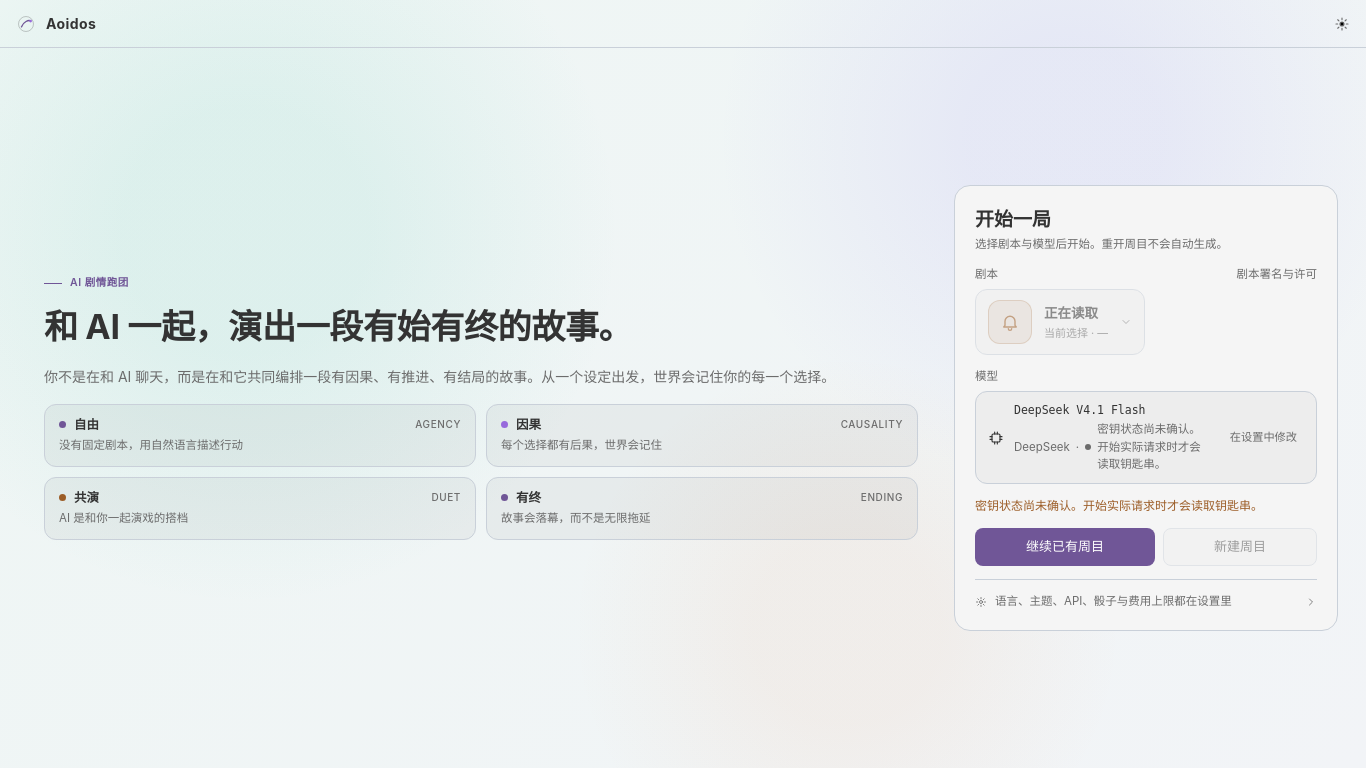
Scenario: App › mounts the latest saved locale immediately after startup hydration
This screenshot has width=1366, height=768.
Expected: the button with class "welcome-start" is enabled, [975,528,1155,566]
Expected: the button with class "welcome-new-cycle" is disabled, [1163,528,1317,566]
Click the button named "设置". click: x=1342, y=24
box: [1326,8,1358,40]
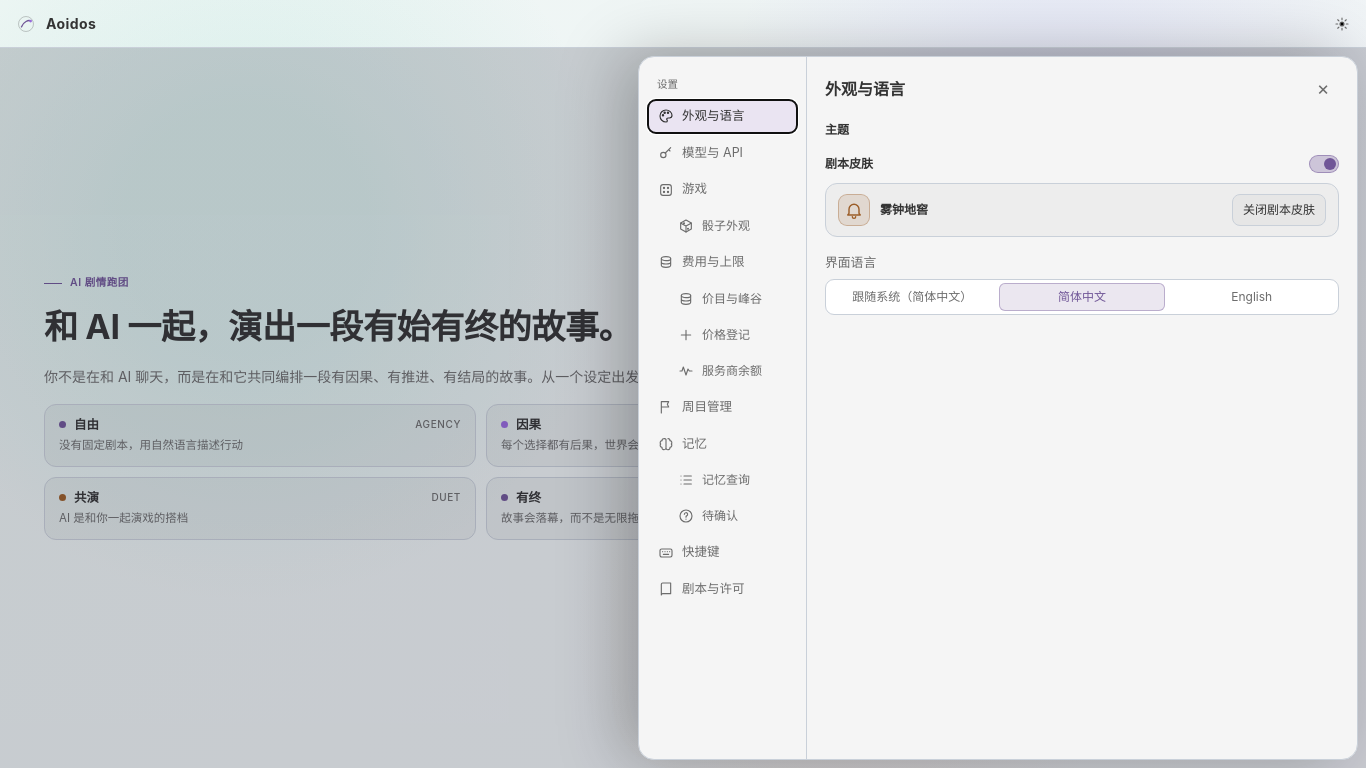
Click the button "模型与 API". click: x=722, y=153
box: [647,136,798,170]
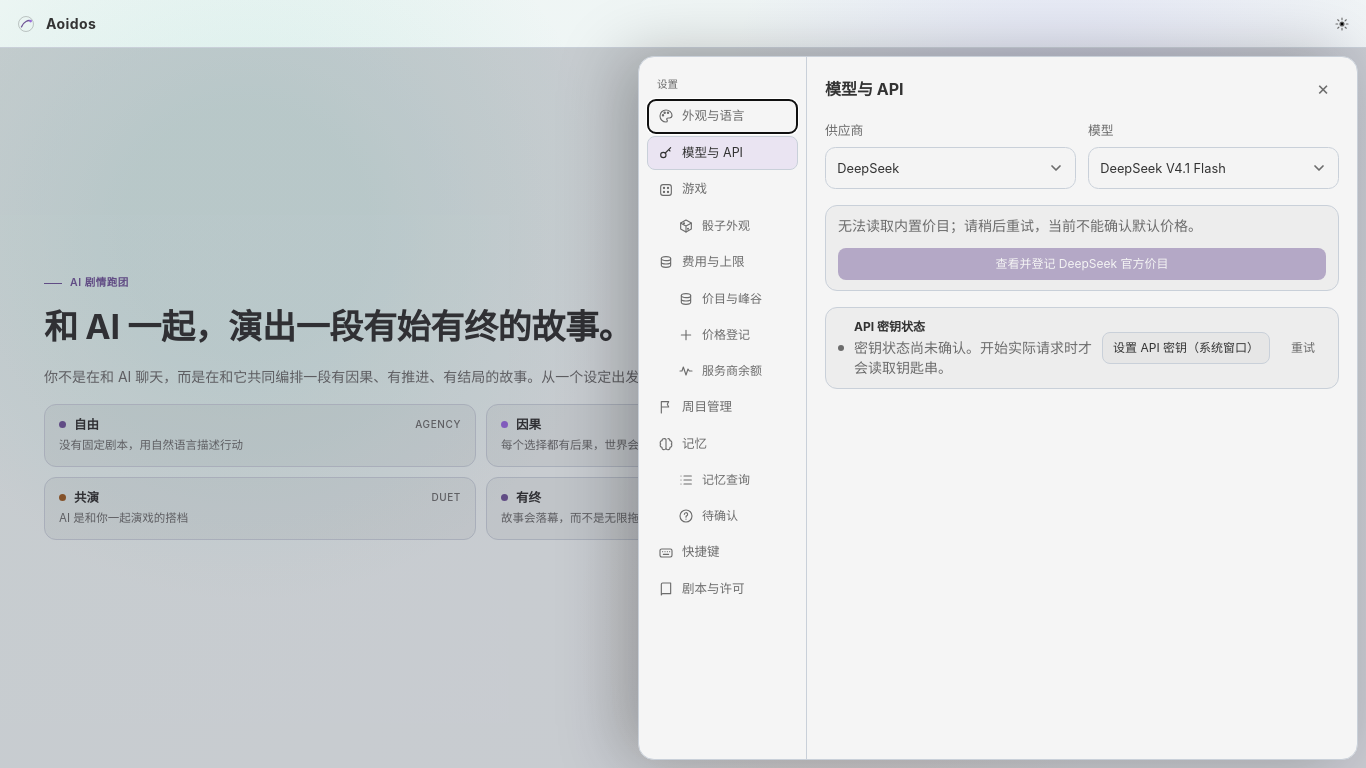
Expected: the element with class "settings-key-card" shows "密钥状态尚未确认", [854,339,1092,376]
Click the button with class "ghost" showing "重试". click: x=1303, y=348
box: [1280,332,1326,364]
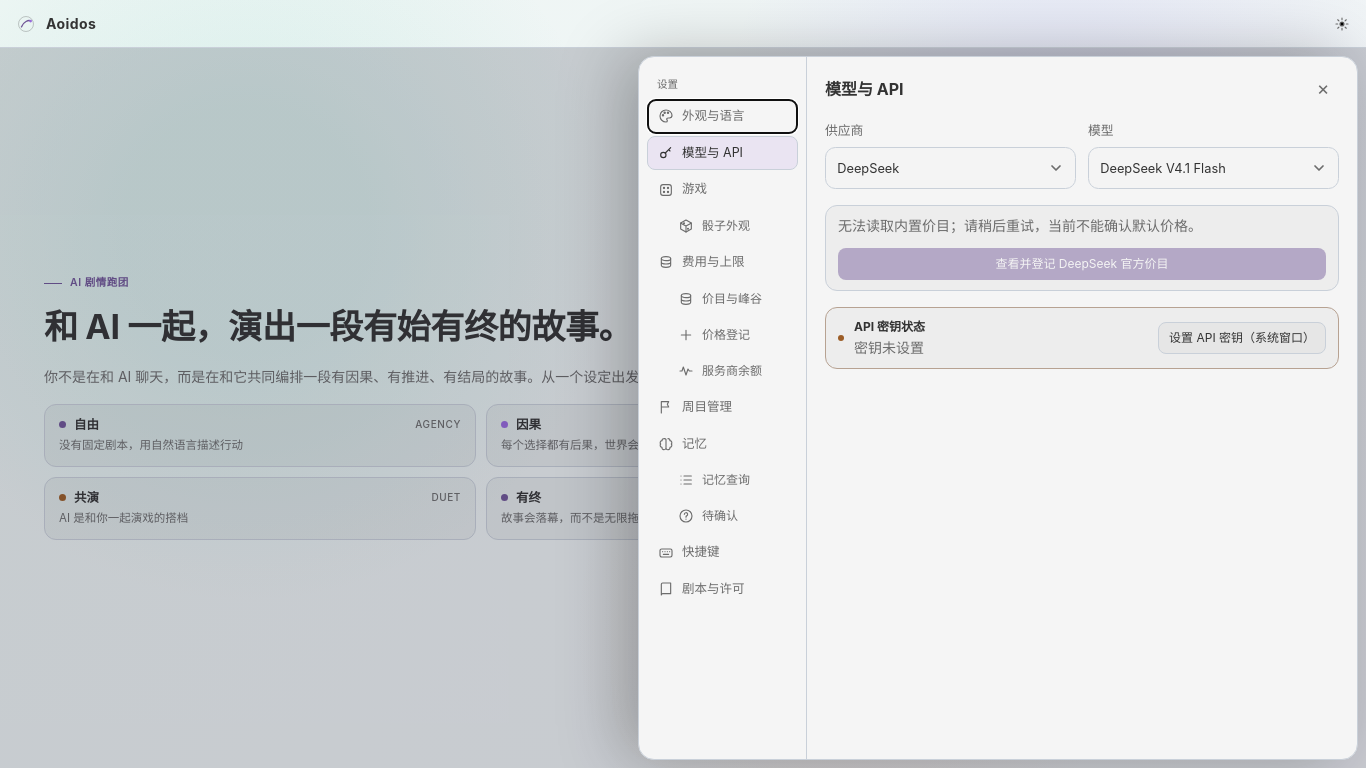
Expected: the element with class "settings-key-card" shows "密钥未设置", [854,339,924,356]
Click the button "游戏". click: x=722, y=190
box: [647,172,798,207]
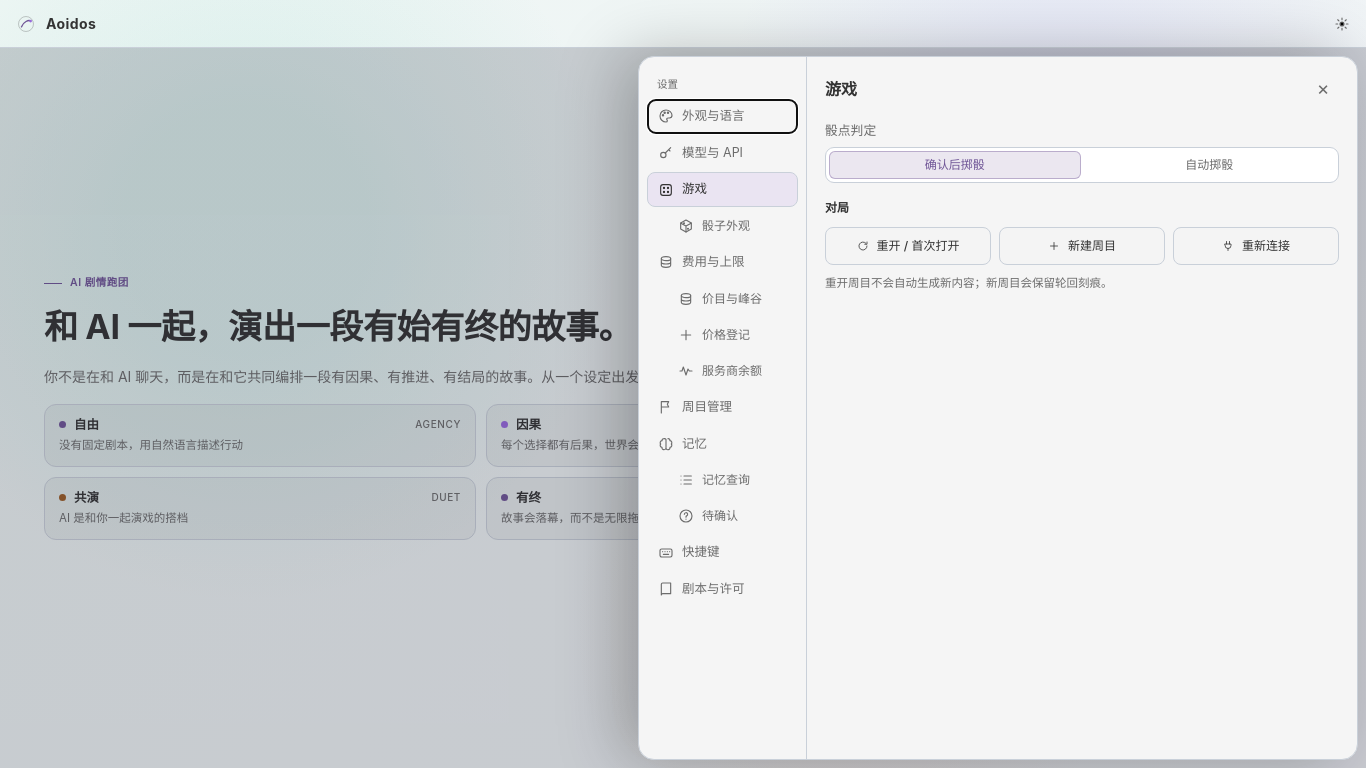
Expected: the button "重开 / 首次打开" is disabled, [825,227,991,265]
